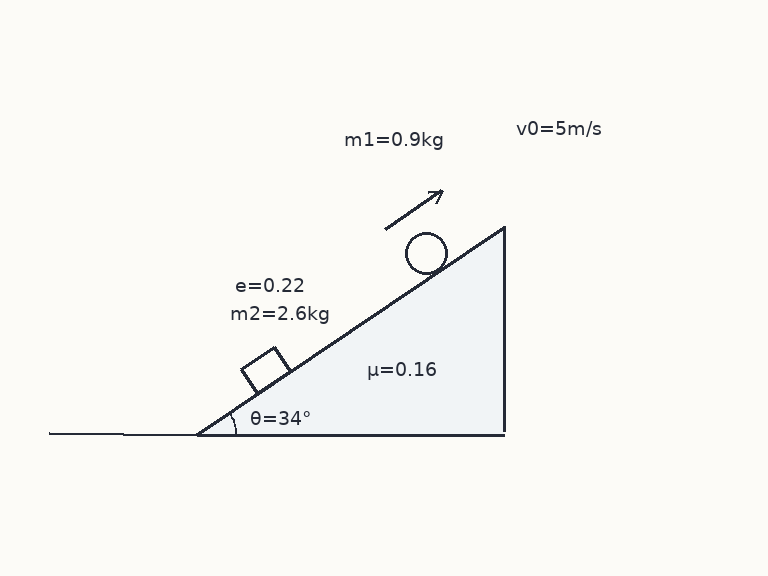ball: (403, 230, 449, 276)
block: (239, 345, 292, 395)
ramp: (194, 225, 506, 436)
